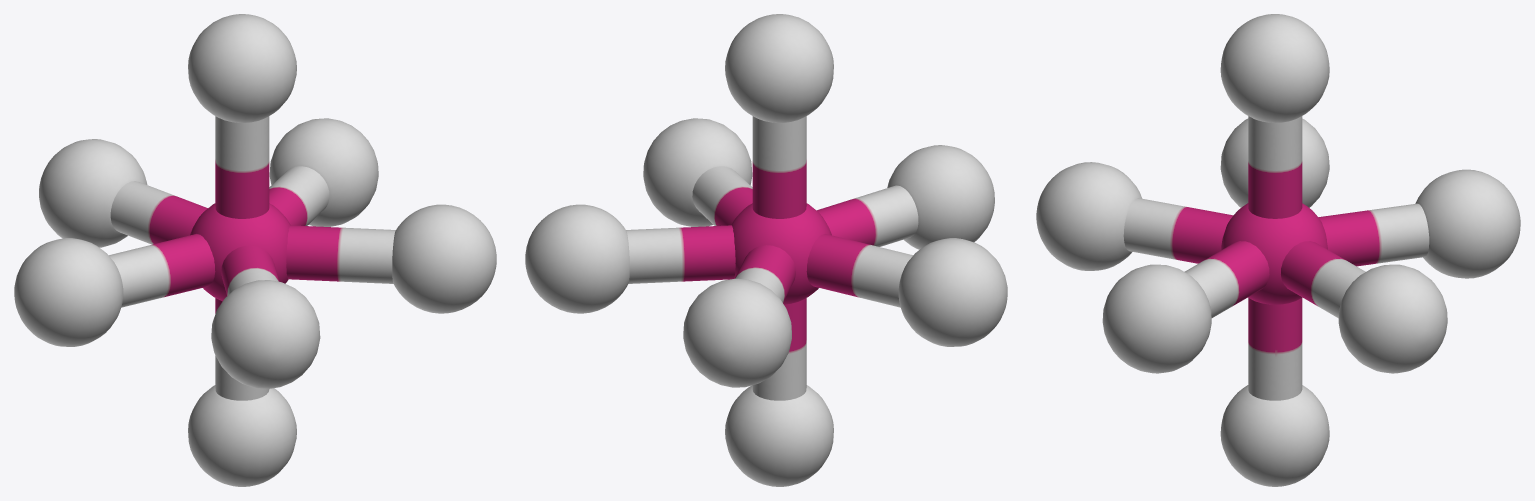
3 views of the same model, side by side, from view 1: azimuth 30°, elevation 25°; view 2: azimuth 150°, elevation 25°; view 3: azimuth 270°, elevation 25° (orthographic).
Visible parts, largest first — view 1: PentagonalBipyramidalBond; view 2: PentagonalBipyramidalBond; view 3: PentagonalBipyramidalBond.
Boxes of the visible parts, left/top/right/bottom form: PentagonalBipyramidalBond: left=14, top=14, right=496, bottom=486; PentagonalBipyramidalBond: left=525, top=14, right=1007, bottom=486; PentagonalBipyramidalBond: left=1036, top=14, right=1520, bottom=486.
Bounding box in the file's own units: 88.4 × 95.6 × 90.67.
1 material, 1 textured.
